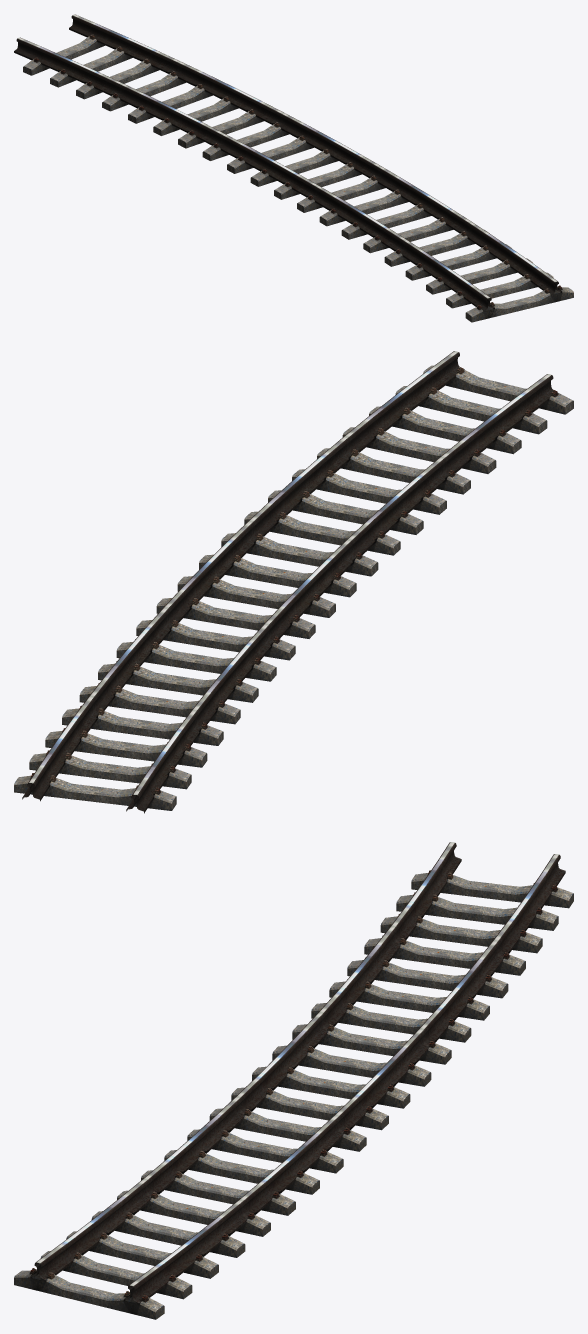
File: Beton_rail_15.FBX
The picture shows the model from 3 angles, top to bottom: view 1: azimuth 30°, elevation 25°; view 2: azimuth 150°, elevation 25°; view 3: azimuth 330°, elevation 25°; orthographic projection. The views are drawn at different scales.
Visible parts, largest first — view 1: Beton_rail_15_LOD0; view 2: Beton_rail_15_LOD0; view 3: Beton_rail_15_LOD0.
Boxes of the visible parts, x1,y1,x2,y2 form: Beton_rail_15_LOD0: (14, 14, 573, 322); Beton_rail_15_LOD0: (14, 351, 573, 813); Beton_rail_15_LOD0: (14, 842, 573, 1319).
Size of what is drawn, in the model's own units: 4.49 by 16.9 by 0.4774.
